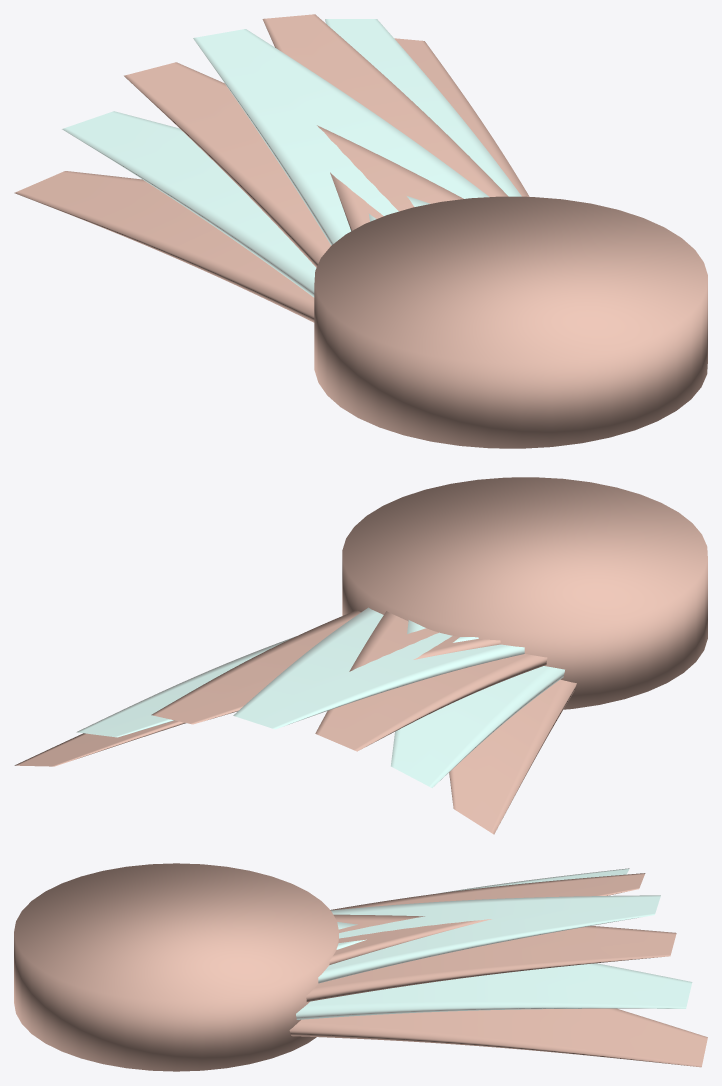
The model's file is coral-fan-01.glb.
3 views of the same model, one above another, from view 1: azimuth 30°, elevation 25°; view 2: azimuth 150°, elevation 25°; view 3: azimuth 270°, elevation 25° (orthographic). The views are drawn at different scales.
Visible parts, largest first — view 1: coral_fan_01_base, coral_fan_01_panel_03, coral_fan_01_panel_02, coral_fan_01_panel_00, coral_fan_01_panel_01, coral_fan_01_panel_04, coral_fan_01_panel_05, coral_fan_01_panel_06; view 2: coral_fan_01_base, coral_fan_01_panel_03, coral_fan_01_panel_02, coral_fan_01_panel_01, coral_fan_01_panel_00, coral_fan_01_panel_04, coral_fan_01_panel_05, coral_fan_01_panel_06; view 3: coral_fan_01_base, coral_fan_01_panel_06, coral_fan_01_panel_05, coral_fan_01_panel_03, coral_fan_01_panel_04, coral_fan_01_panel_02, coral_fan_01_panel_01.
Part boxes in pixels (x1,y1,x2,y2): coral_fan_01_base: [314, 196, 707, 448]; coral_fan_01_panel_03: [193, 29, 489, 245]; coral_fan_01_panel_02: [124, 62, 463, 267]; coral_fan_01_panel_00: [14, 171, 314, 322]; coral_fan_01_panel_01: [62, 111, 430, 297]; coral_fan_01_panel_04: [262, 14, 508, 230]; coral_fan_01_panel_05: [325, 19, 521, 221]; coral_fan_01_panel_06: [394, 38, 529, 196]; coral_fan_01_base: [342, 477, 707, 709]; coral_fan_01_panel_03: [233, 607, 524, 729]; coral_fan_01_panel_02: [315, 611, 547, 751]; coral_fan_01_panel_01: [391, 620, 564, 787]; coral_fan_01_panel_00: [449, 679, 576, 834]; coral_fan_01_panel_04: [151, 610, 500, 724]; coral_fan_01_panel_05: [76, 636, 478, 737]; coral_fan_01_panel_06: [14, 720, 185, 766]; coral_fan_01_base: [14, 863, 338, 1071]; coral_fan_01_panel_06: [289, 1008, 707, 1067]; coral_fan_01_panel_05: [296, 922, 692, 1019]; coral_fan_01_panel_03: [318, 895, 660, 983]; coral_fan_01_panel_04: [306, 914, 676, 1001]; coral_fan_01_panel_02: [329, 873, 645, 964]; coral_fan_01_panel_01: [336, 868, 629, 949].
Size of the model in its own units: 1.41 by 0.345 by 2.22.
